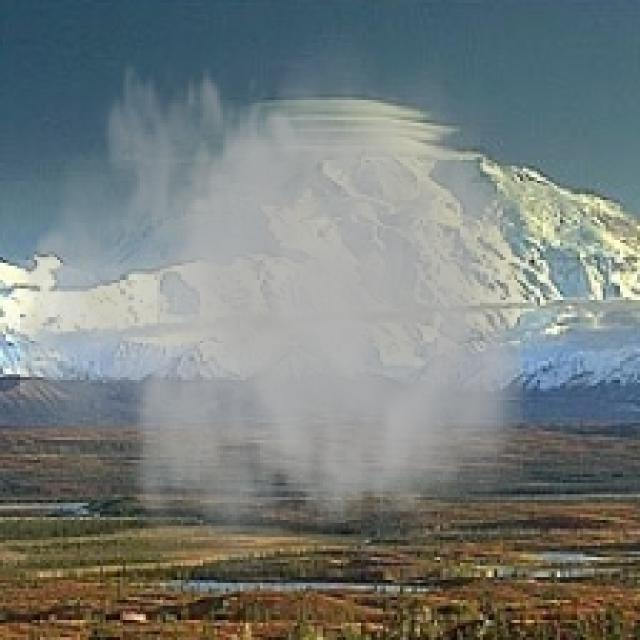smoke: (20, 9, 554, 572)
